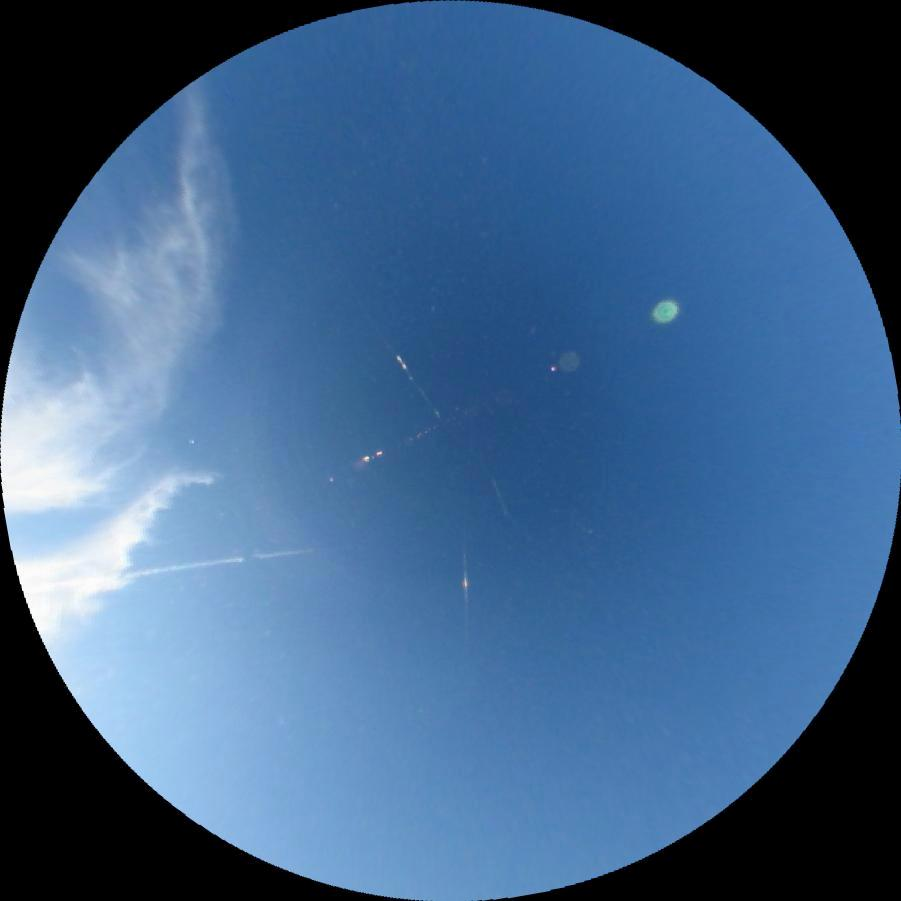parasite: (379, 335, 456, 439), (126, 546, 308, 580), (460, 536, 469, 631), (491, 478, 509, 516)
